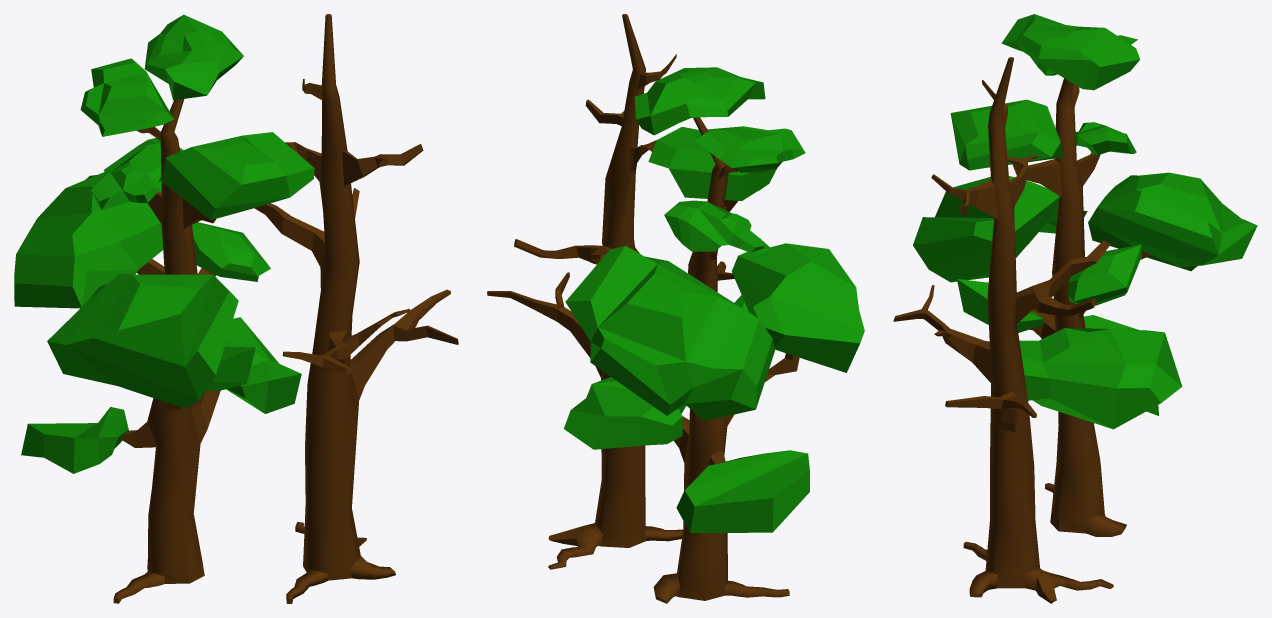
The model's file is baum_d004.FBX.
3 renders of one model, left to right at view 1: azimuth 30°, elevation 25°; view 2: azimuth 150°, elevation 25°; view 3: azimuth 270°, elevation 25°, orthographic. The views are drawn at different scales.
Visible parts, largest first — view 1: Baum_D004; view 2: Baum_D004; view 3: Baum_D004.
Part boxes in pixels (x1,y1,x2,y2): Baum_D004: [14, 14, 458, 603]; Baum_D004: [487, 14, 864, 603]; Baum_D004: [893, 14, 1257, 603].
Bounding box in the file's own units: 44.64 × 59.25 × 37.74.
